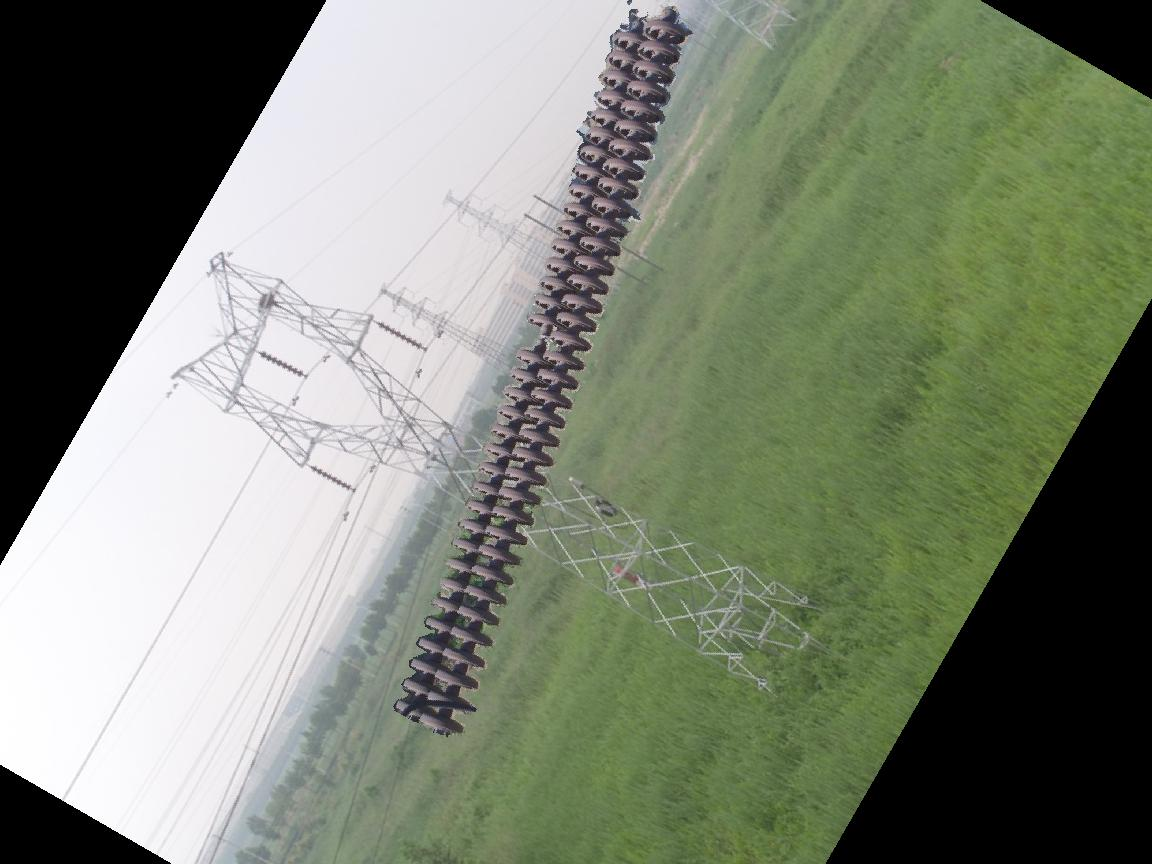insulator: (389, 11, 690, 736), (374, 319, 423, 355), (255, 346, 305, 381), (306, 463, 352, 493)
insulator_stringdrop: (514, 311, 561, 371)
